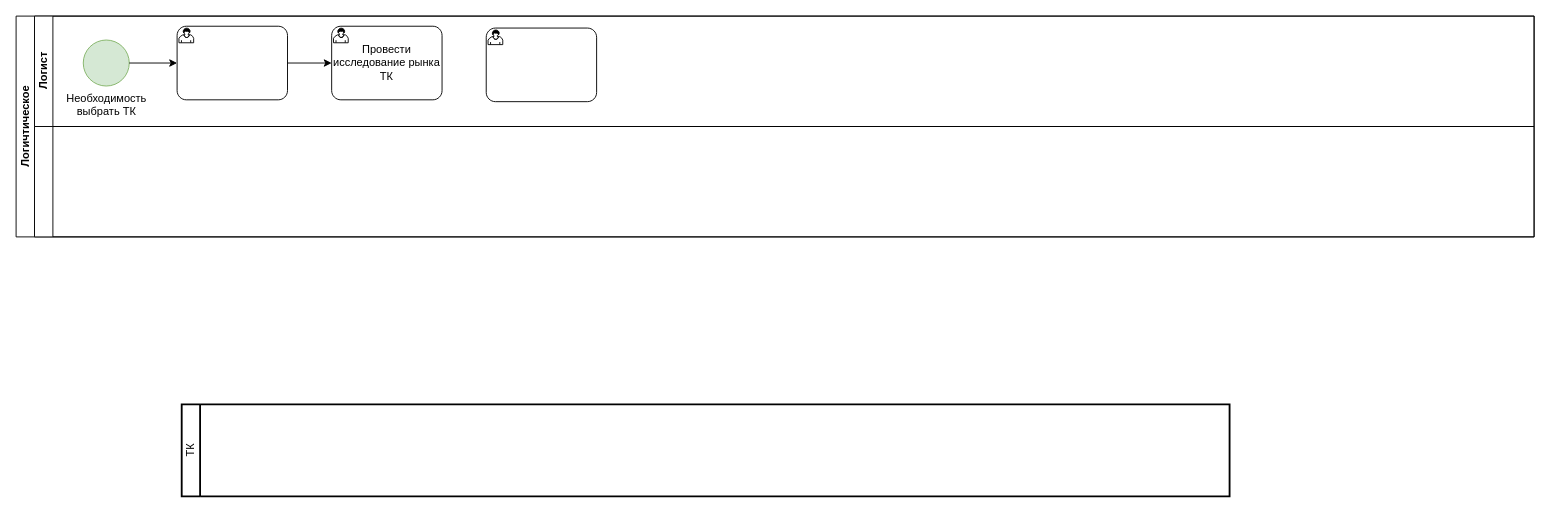
The diagram is 1550 pixels wide and 513 high, and some of its shapes have lost their labels. The shapes that lost their labels are listed below. From the top down, each one's box as (x1, y1, x2, y2) in pixels, then its label:
(176, 25, 288, 100): Определить требования к ТК
(34, 126, 1534, 237): Ген Дир
